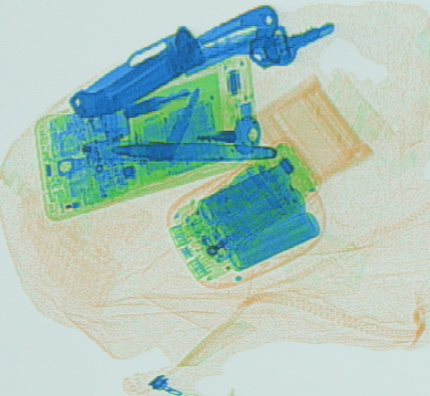knife: (67, 23, 203, 121), (174, 3, 278, 76)
powerbank: (164, 154, 324, 287)
